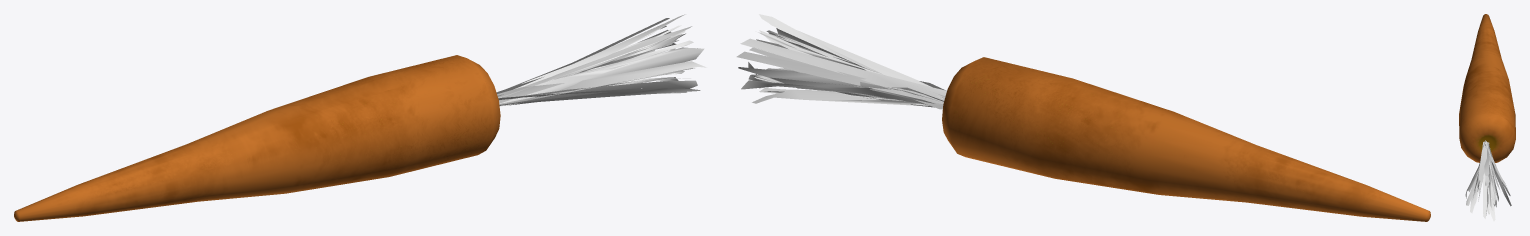
File: Carrot.fbx
3 views of the same model, side by side, from view 1: azimuth 30°, elevation 25°; view 2: azimuth 150°, elevation 25°; view 3: azimuth 270°, elevation 25° (orthographic). The views are drawn at different scales.
Parts seen in each view (by area): view 1: Carrot; view 2: Carrot; view 3: Carrot.
Part boxes in pixels (bbox=[...]): Carrot: bbox=[14, 14, 706, 221]; Carrot: bbox=[736, 14, 1430, 221]; Carrot: bbox=[1459, 14, 1515, 221].
Size of the model in its own units: 1519 by 200 by 201.
